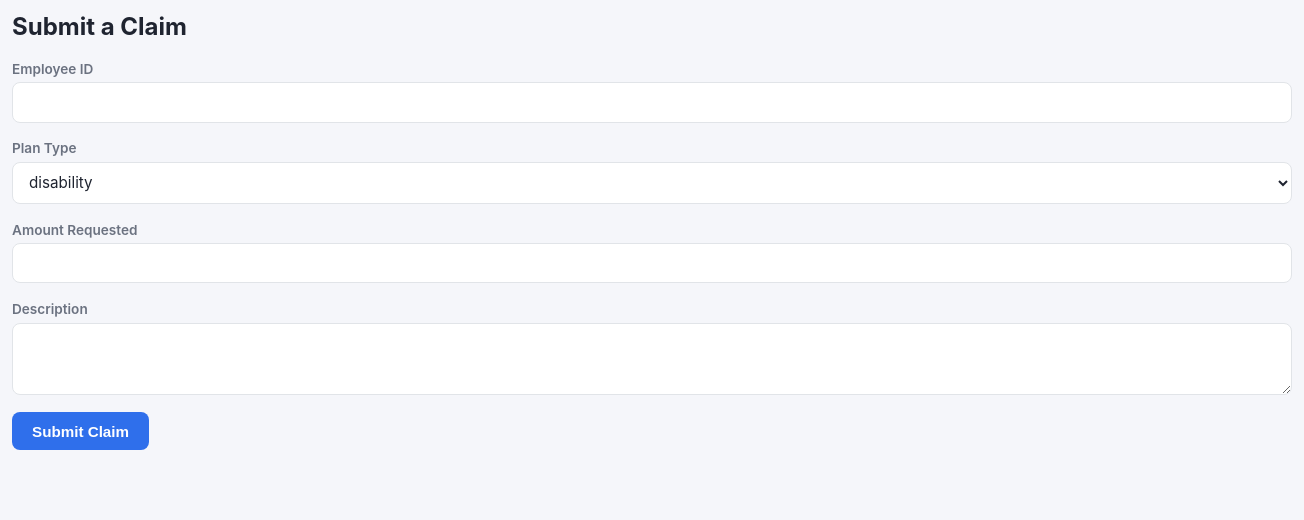
Test: ClaimForm › surfaces an error message when submission fails
The image size is (1304, 520).
In the field labelled "Employee ID": (652, 102) [12,82,1292,123], type "EMP-1"
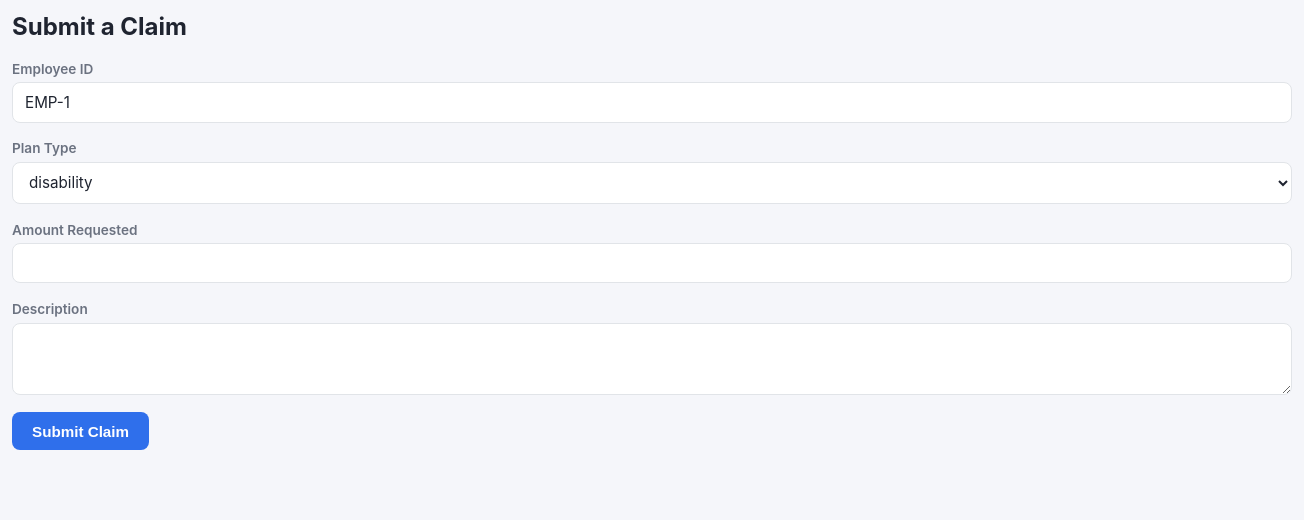
In the number field labelled "Amount Requested": (652, 263) [12,243,1292,283], type "100"
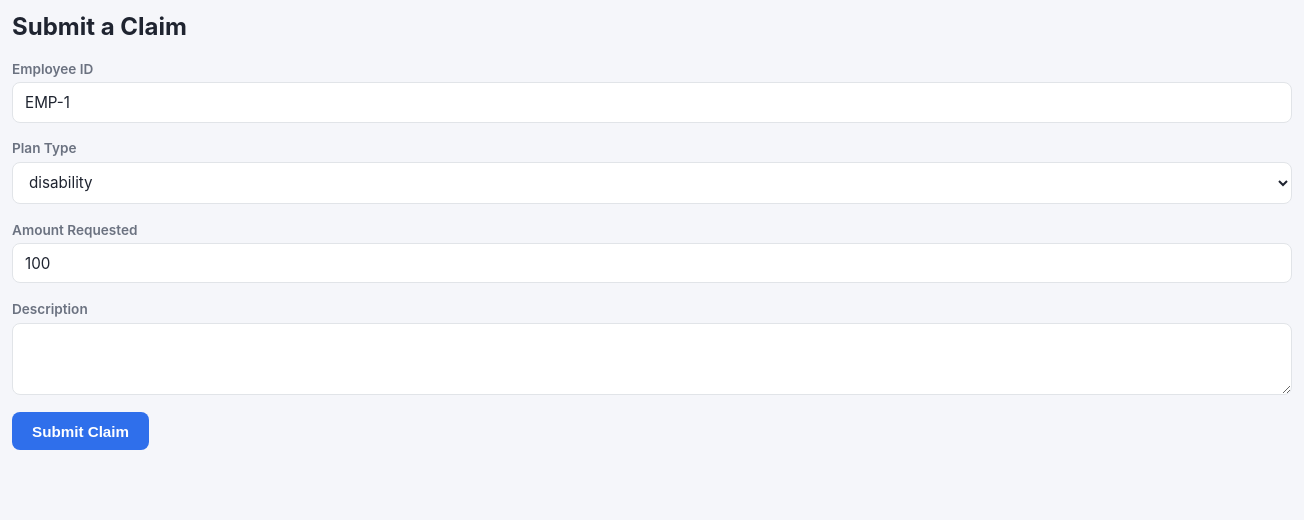
Click the button "Submit Claim": (80, 431) [12,412,149,450]
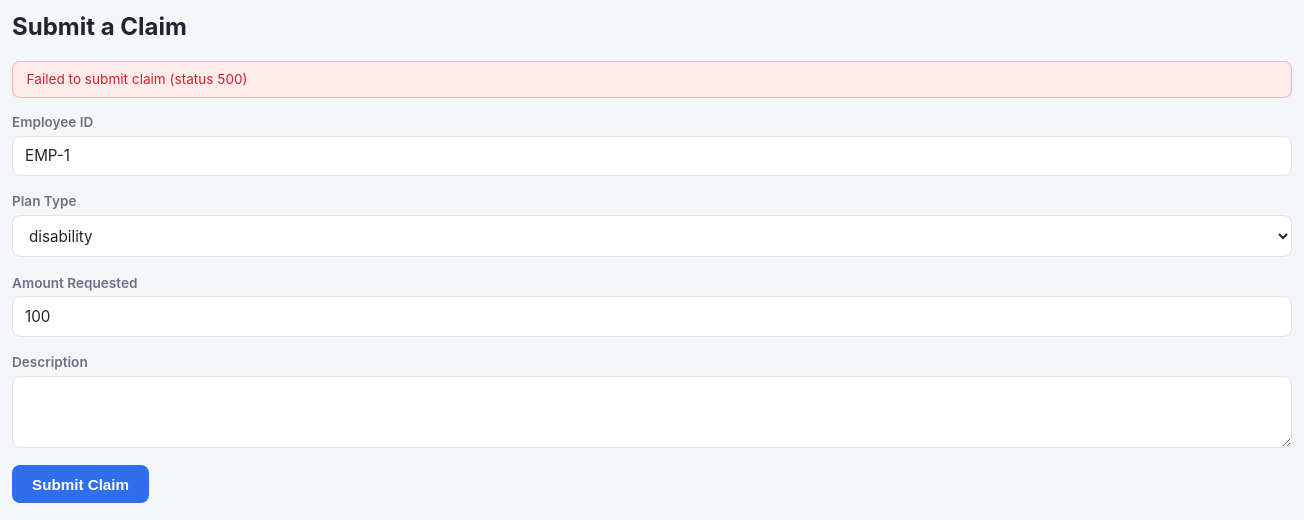
Expected: the message reads "Failed to submit claim (status 500)", [27,71,248,87]
